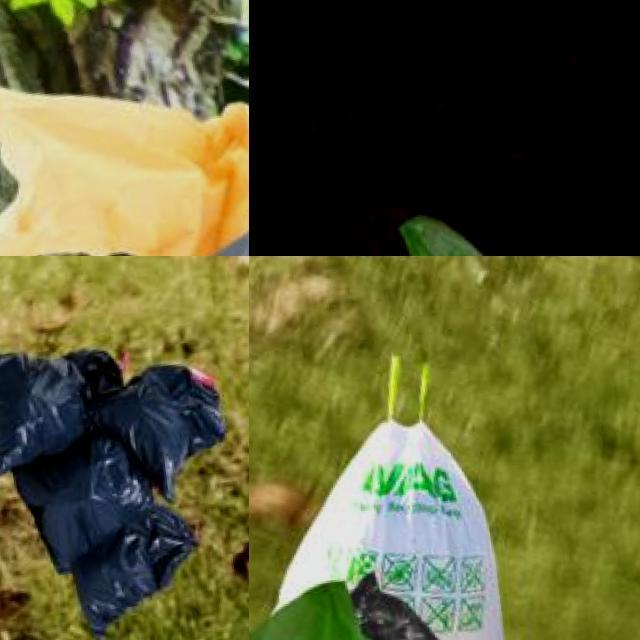waste: (0, 31, 249, 256), (265, 174, 640, 256), (65, 510, 220, 640), (249, 562, 503, 640), (104, 367, 236, 502), (7, 440, 160, 550), (0, 323, 122, 453)
